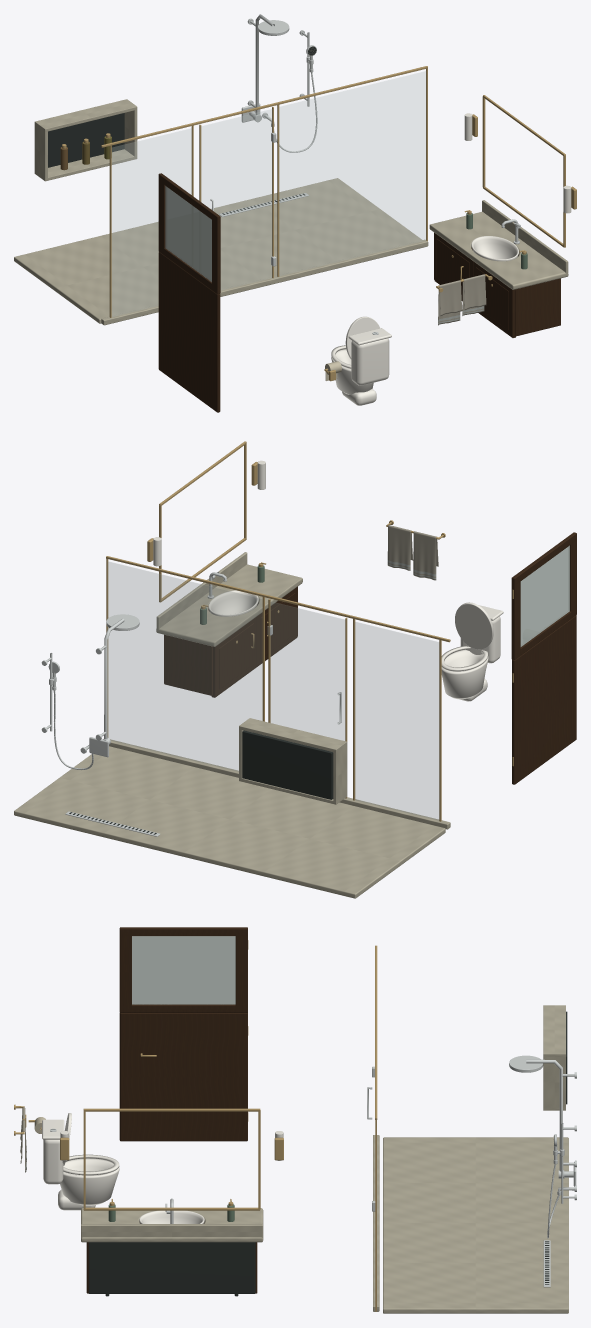
The model's file is bathroom-316.glb.
3 renders of one model, top to bottom at view 1: azimuth 30°, elevation 25°; view 2: azimuth 150°, elevation 25°; view 3: azimuth 270°, elevation 25°, orthographic. The views are drawn at different scales.
Parts seen in each view (by area): view 1: Merged | Clear shower glass | 8 mm, Merged | Honed warm limestone.001, Shower door glass, Merged | Smoked oak | fine vertical grain.003, Merged | Honed warm limestone, Merged | Aged champagne brass.002, Merged | Glazed warm white porcelain.001, Bathroom door frosted pane, Merged | Cabinet shadow and gaskets.001, Merged | Smoked oak | fine vertical grain, Merged | Brushed nickel.002, Merged | Smoked oak | fine vertical grain.002 (+6 smaller); view 2: Merged | Clear shower glass | 8 mm, Merged | Honed warm limestone.001, Merged | Smoked oak | fine vertical grain.003, Shower door glass, Merged | Honed warm limestone, Merged | Aged champagne brass.002, Merged | Cabinet shadow and gaskets.001, Bathroom door frosted pane, Merged | Glazed warm white porcelain.001, Merged | Smoked oak | fine vertical grain, Merged | Brushed nickel.002, Merged | Smoked oak | fine vertical grain.001 (+6 smaller); view 3: Merged | Honed warm limestone.001, Merged | Smoked oak | fine vertical grain.003, Merged | Cabinet shadow and gaskets, Bathroom door frosted pane, Merged | Honed warm limestone, Merged | Glazed warm white porcelain.001, Merged | Aged champagne brass.002, Merged | Brushed nickel.002, Vanity | genuinely recessed ceramic basin.
Boxes of the visible parts, box(x1,y1,x2,y2) form: Merged | Clear shower glass | 8 mm: box(112, 71, 425, 316); Merged | Honed warm limestone.001: box(14, 99, 428, 325); Shower door glass: box(201, 109, 272, 290); Merged | Smoked oak | fine vertical grain.003: box(158, 173, 220, 412); Merged | Honed warm limestone: box(429, 200, 568, 289); Merged | Aged champagne brass.002: box(62, 66, 576, 381); Merged | Glazed warm white porcelain.001: box(331, 328, 391, 405); Bathroom door frosted pane: box(165, 186, 211, 281); Merged | Cabinet shadow and gaskets.001: box(48, 46, 316, 214); Merged | Smoked oak | fine vertical grain: box(434, 247, 560, 337); Merged | Brushed nickel.002: box(219, 14, 317, 216); Merged | Smoked oak | fine vertical grain.002: box(473, 261, 514, 336); Merged | Clear shower glass | 8 mm: box(108, 561, 438, 820); Merged | Honed warm limestone.001: box(14, 718, 450, 898); Merged | Smoked oak | fine vertical grain.003: box(511, 532, 576, 784); Shower door glass: box(270, 601, 344, 740); Merged | Honed warm limestone: box(156, 552, 302, 646); Merged | Aged champagne brass.002: box(106, 441, 450, 821); Merged | Cabinet shadow and gaskets.001: box(69, 730, 333, 834); Bathroom door frosted pane: box(520, 545, 569, 646); Merged | Glazed warm white porcelain.001: box(441, 605, 503, 701); Merged | Smoked oak | fine vertical grain: box(164, 602, 297, 697); Merged | Brushed nickel.002: box(41, 614, 160, 836); Merged | Smoked oak | fine vertical grain.001: box(213, 617, 256, 696); Merged | Honed warm limestone.001: box(373, 1005, 568, 1313); Merged | Smoked oak | fine vertical grain.003: box(119, 927, 247, 1141); Merged | Cabinet shadow and gaskets: box(88, 1242, 255, 1296); Bathroom door frosted pane: box(132, 936, 235, 1004); Merged | Honed warm limestone: box(81, 1208, 263, 1242); Merged | Glazed warm white porcelain.001: box(42, 1119, 119, 1210); Merged | Aged champagne brass.002: box(14, 945, 377, 1311); Merged | Brushed nickel.002: box(509, 1055, 576, 1287); Vanity | genuinely recessed ceramic basin: box(139, 1210, 204, 1223).
Bounding box in the file's own units: 4.4 × 2.5 × 5.93.
Materials: 17 (4 with a texture image).
